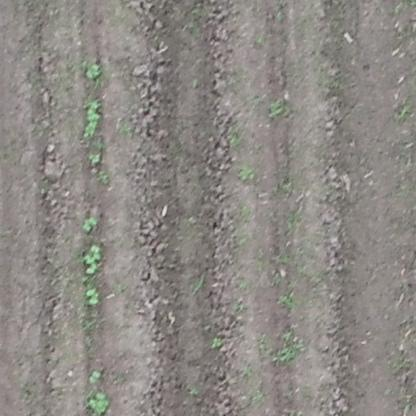vc: (81, 95, 96, 140), (80, 243, 101, 273), (86, 392, 114, 414), (86, 286, 104, 305), (88, 60, 103, 80), (82, 216, 100, 232), (89, 151, 104, 165), (89, 369, 102, 382)
